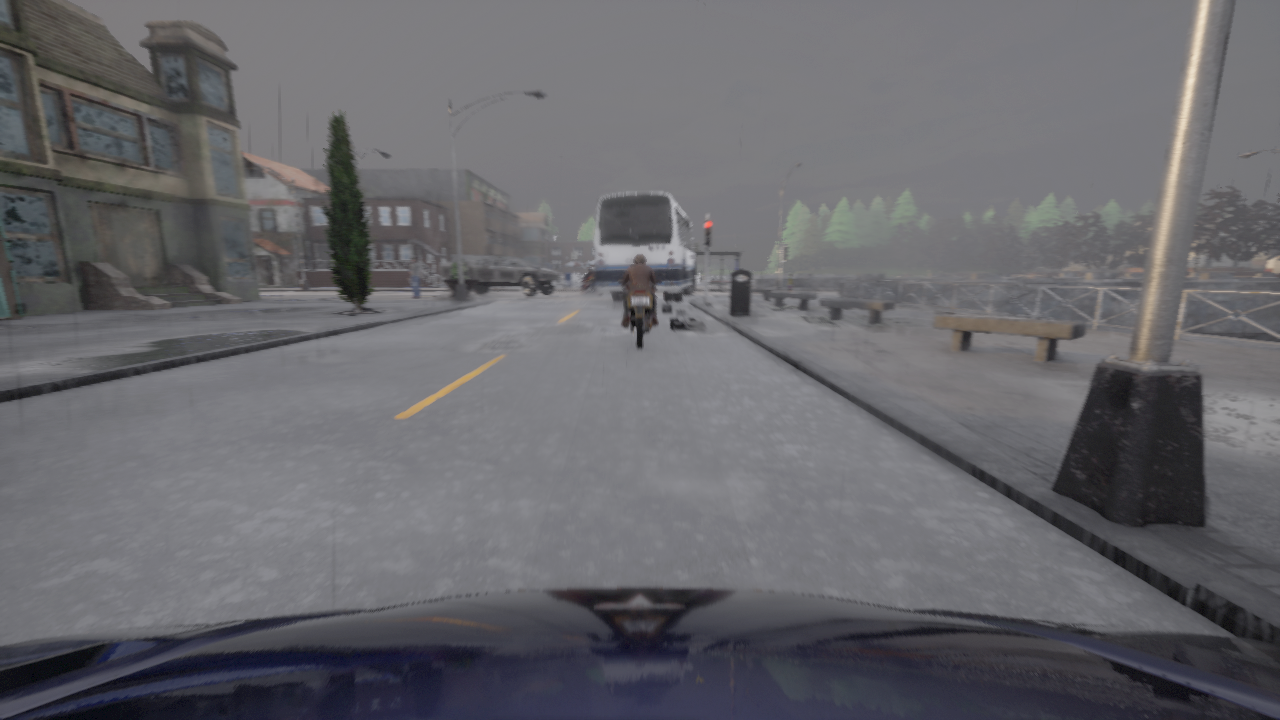cyclist: (0, 588, 1279, 719), (596, 192, 698, 301), (440, 256, 559, 296), (618, 280, 661, 348), (579, 274, 602, 295)
pedestrian: (409, 257, 422, 297), (788, 273, 793, 291)
